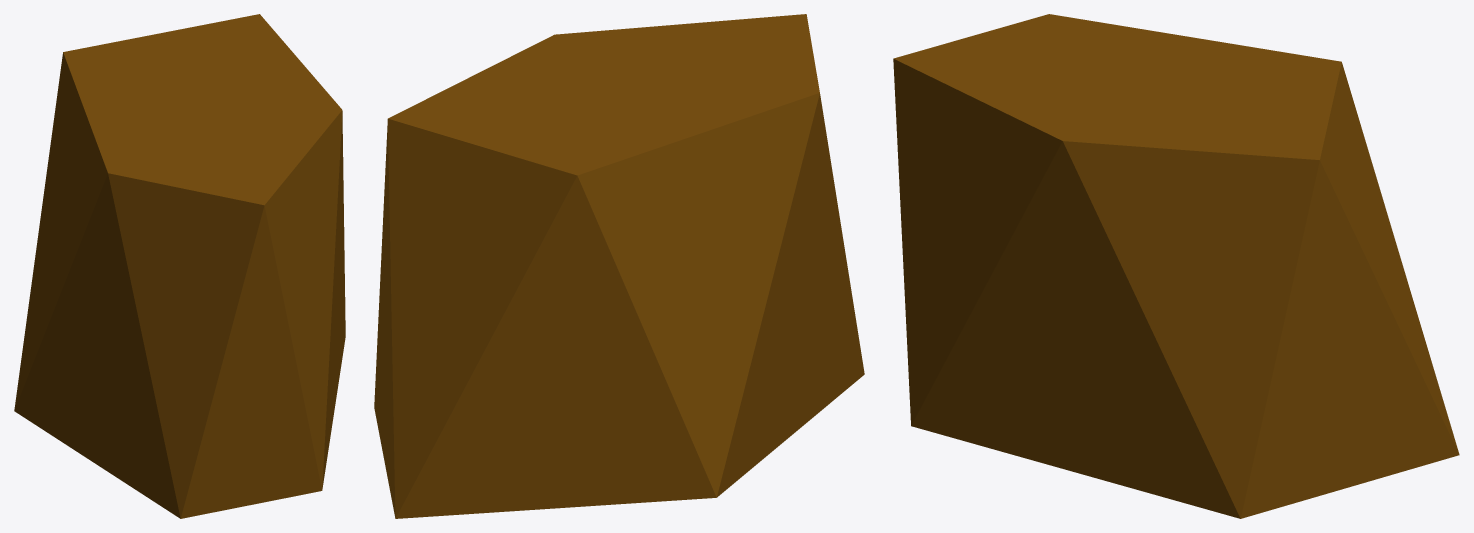
The model's file is pen.fbx.
3 renders of one model, left to right at view 1: azimuth 30°, elevation 25°; view 2: azimuth 150°, elevation 25°; view 3: azimuth 270°, elevation 25°, orthographic. The views are drawn at different scales.
Visible parts, largest first — view 1: Group4; view 2: Group4; view 3: Group4.
Boxes of the visible parts, <box> form: Group4: <box>14,14,345,518</box>; Group4: <box>374,14,864,518</box>; Group4: <box>893,14,1459,518</box>.
Size of the model in its own units: 493 by 444 by 685.
